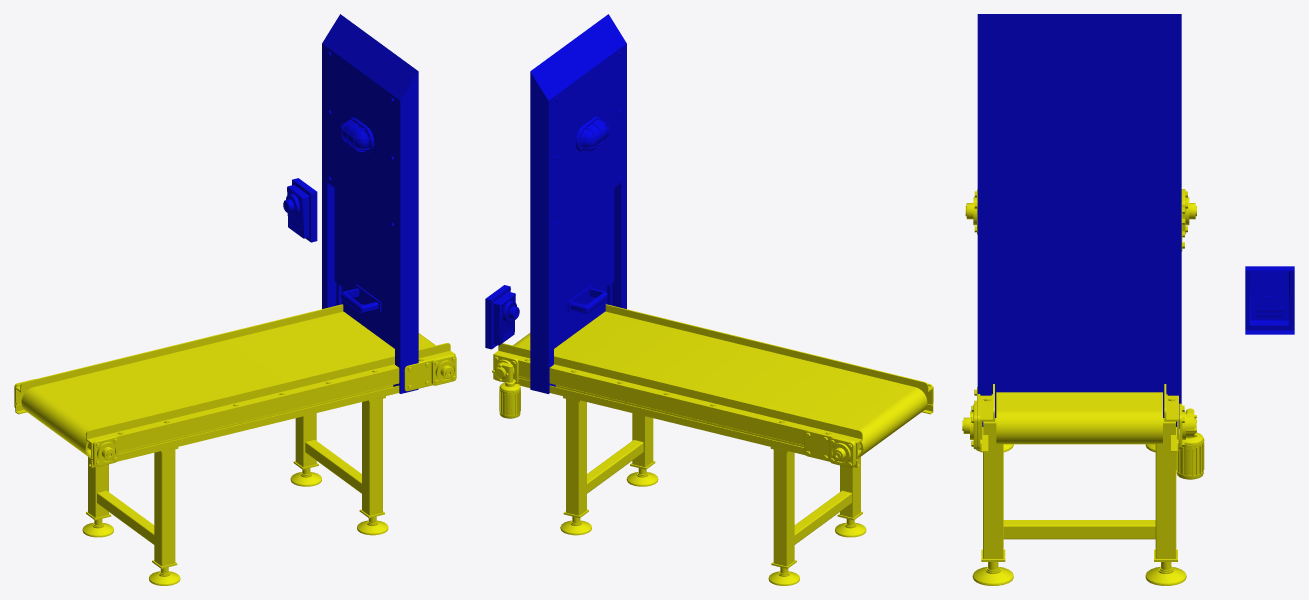
Rendered from ConveyorBelt.fbx.
3 renders of one model, left to right at view 1: azimuth 30°, elevation 25°; view 2: azimuth 150°, elevation 25°; view 3: azimuth 270°, elevation 25°, orthographic. The views are drawn at different scales.
Parts seen in each view (by area): view 1: ConveyorFrame, Hatch_Frame, ConveyorBelt, Hatch_Door, Wallbutton, Lamp, PULL_ME; view 2: ConveyorFrame, Hatch_Frame, ConveyorBelt, Hatch_Door, Wallbutton, Lamp, PULL_ME; view 3: Hatch_Frame, ConveyorFrame, ConveyorBelt, Wallbutton.
Boxes of the visible parts, x1,y1,x2,y2 form: ConveyorFrame: [14, 304, 456, 585]; Hatch_Frame: [322, 14, 418, 393]; ConveyorBelt: [21, 311, 435, 458]; Hatch_Door: [334, 188, 394, 324]; Wallbutton: [286, 178, 317, 242]; Lamp: [341, 117, 374, 153]; PULL_ME: [341, 284, 381, 313]; ConveyorFrame: [492, 304, 933, 585]; Hatch_Frame: [530, 14, 626, 393]; ConveyorBelt: [513, 311, 927, 458]; Hatch_Door: [554, 188, 614, 324]; Wallbutton: [485, 285, 516, 349]; Lamp: [576, 116, 609, 152]; PULL_ME: [567, 284, 607, 313]; Hatch_Frame: [977, 14, 1181, 428]; ConveyorFrame: [962, 189, 1204, 585]; ConveyorBelt: [983, 392, 1175, 444]; Wallbutton: [1245, 266, 1294, 334].
Size of the model in its own units: 225 by 268 by 137.
